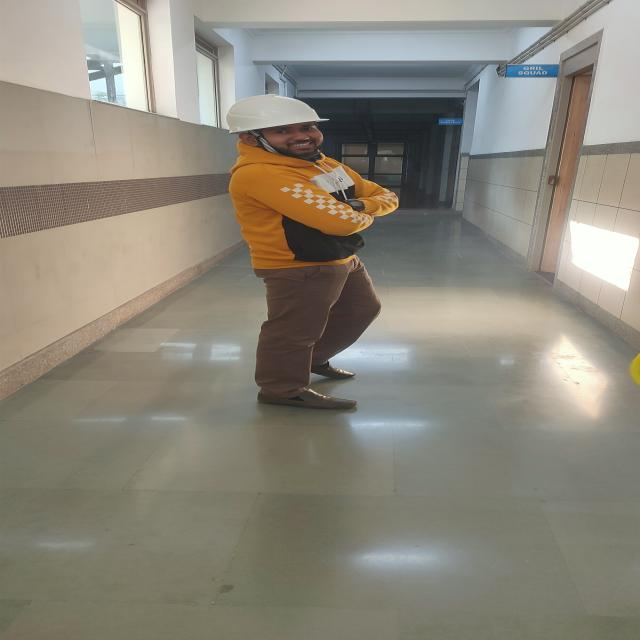no jacket: (228, 91, 402, 412)
